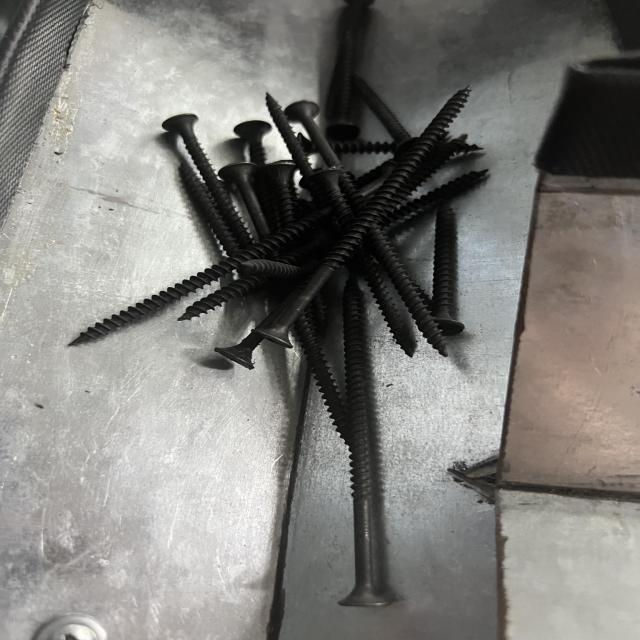screw: (264, 84, 471, 350), (321, 283, 402, 612), (160, 109, 258, 271)
